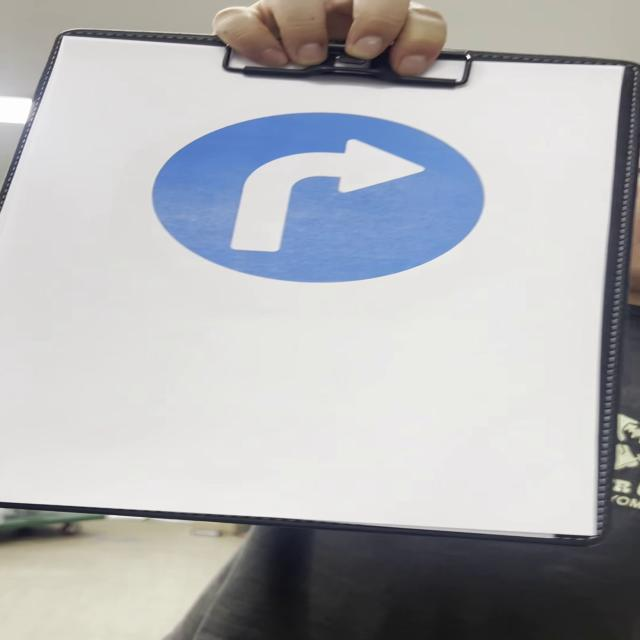right: (151, 113, 493, 289)
